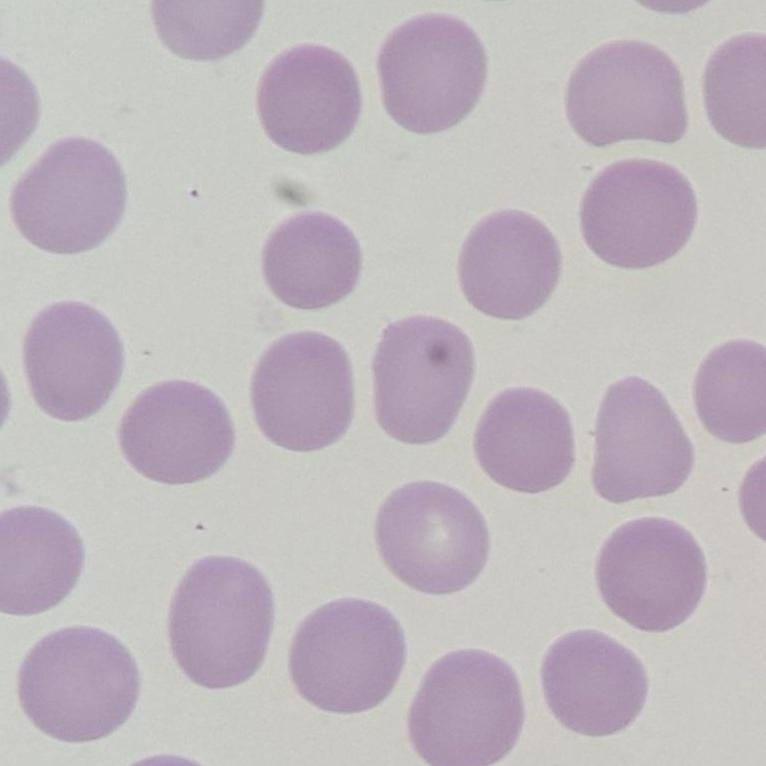Uninfected: (166, 557, 279, 689), (370, 313, 477, 449), (18, 625, 138, 744), (594, 375, 701, 505), (286, 597, 409, 708), (24, 299, 129, 425), (568, 41, 689, 149), (378, 13, 483, 137), (14, 141, 129, 254), (378, 481, 493, 593), (406, 655, 522, 766), (594, 513, 703, 626), (118, 381, 237, 484), (582, 157, 693, 266), (254, 329, 357, 446), (458, 205, 561, 322), (546, 625, 651, 732), (254, 47, 359, 153), (264, 209, 365, 316), (474, 389, 574, 493), (0, 505, 86, 613), (698, 337, 766, 449)
